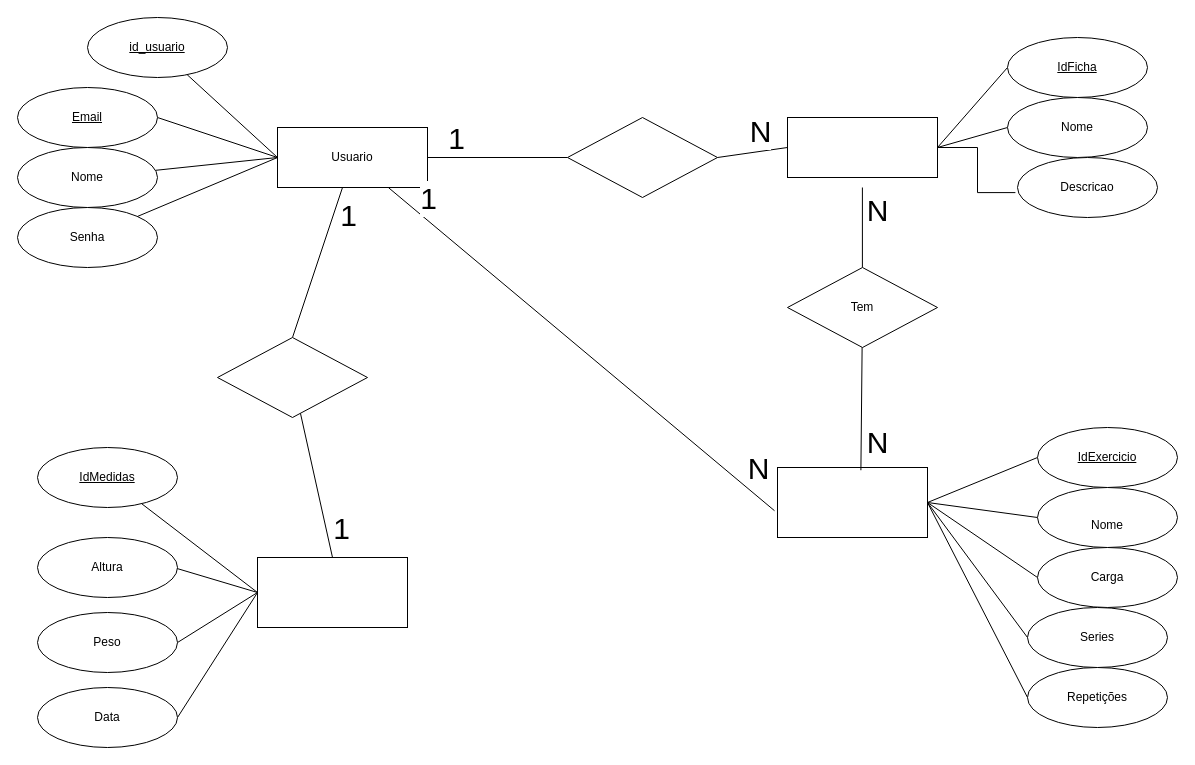
The diagram is 1195 pixels wide and 765 high, and some of its shapes have lost their labels. Each missing label, with the box of its shape:
Cria: (566, 116, 718, 198)
Exercicio: (776, 466, 928, 538)
Ficha: (786, 116, 938, 178)
Medidas: (256, 556, 408, 628)
Registra: (216, 336, 368, 418)
